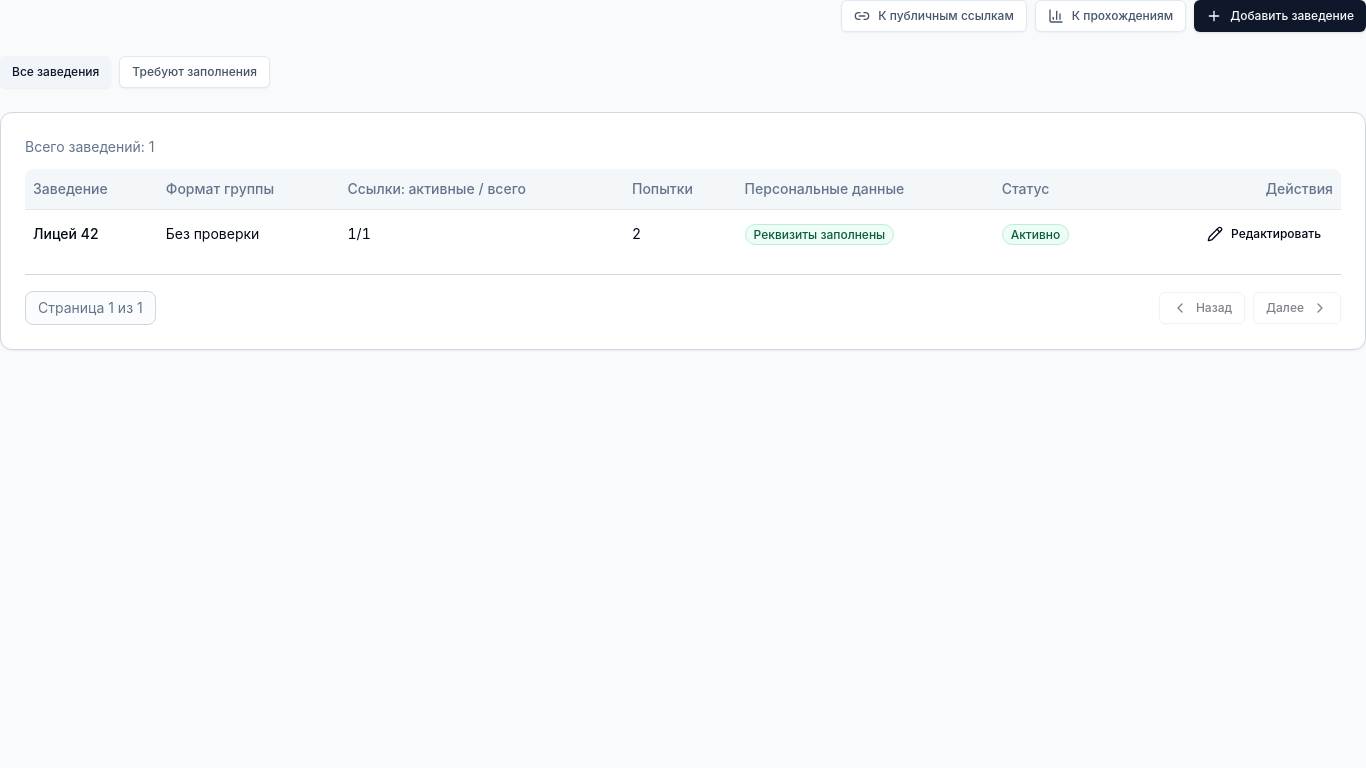
Test: AdminEducationOrganizationsWorkspace › keeps forms unmounted until create or edit is requested
The width and height of the screenshot is (1366, 768).
Expected: the field labelled "Название *" is not shown
What coordinates should you click on to do the following:
click the button "Добавить заведение"
I would click on:
 (1280, 16)
Its box is [1194,0,1365,32].
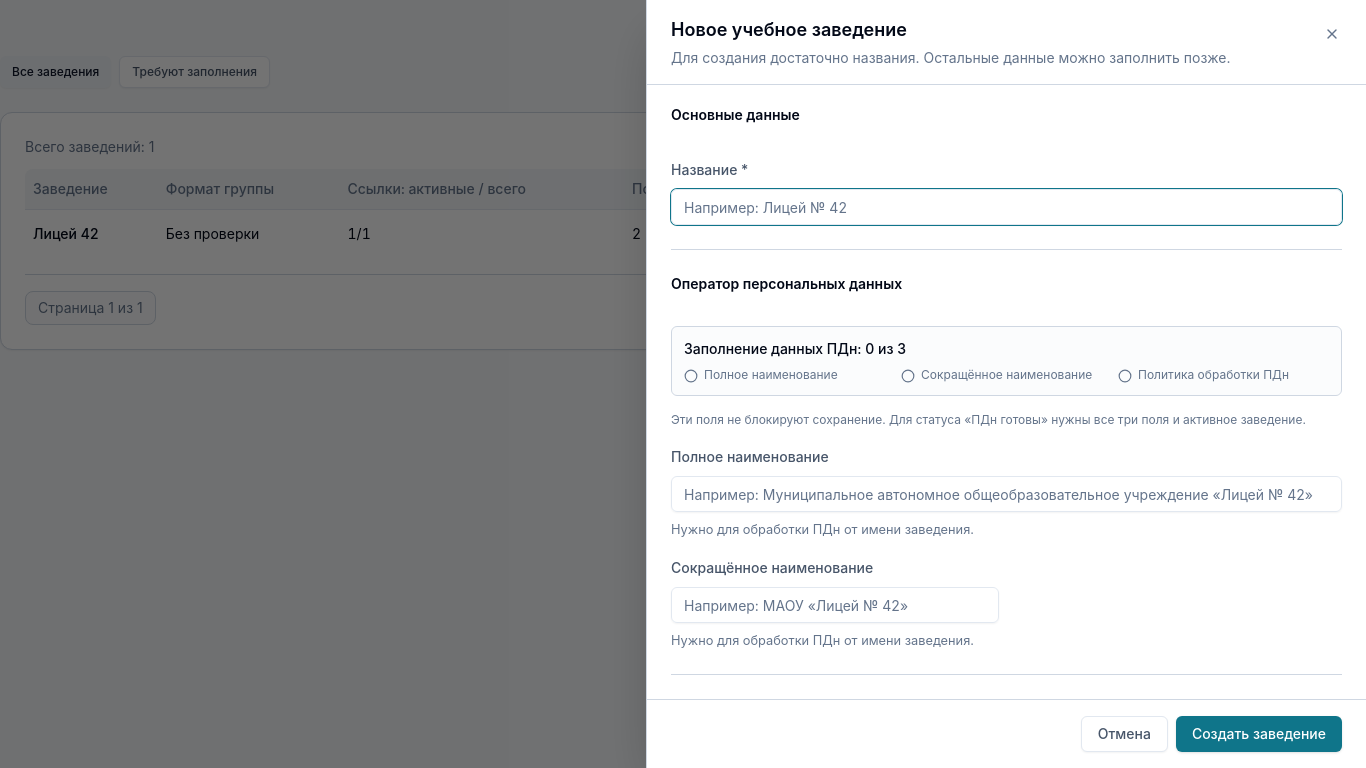
Now the dialog "Новое учебное заведение" is shown, box [646,0,1365,767]
Now the field labelled "Название *" is empty, box [671,189,1342,225]
What coordinates should you click on to do the following:
click the button "Отмена"
I would click on:
 (1124, 734)
Its box is [1081,716,1168,752].
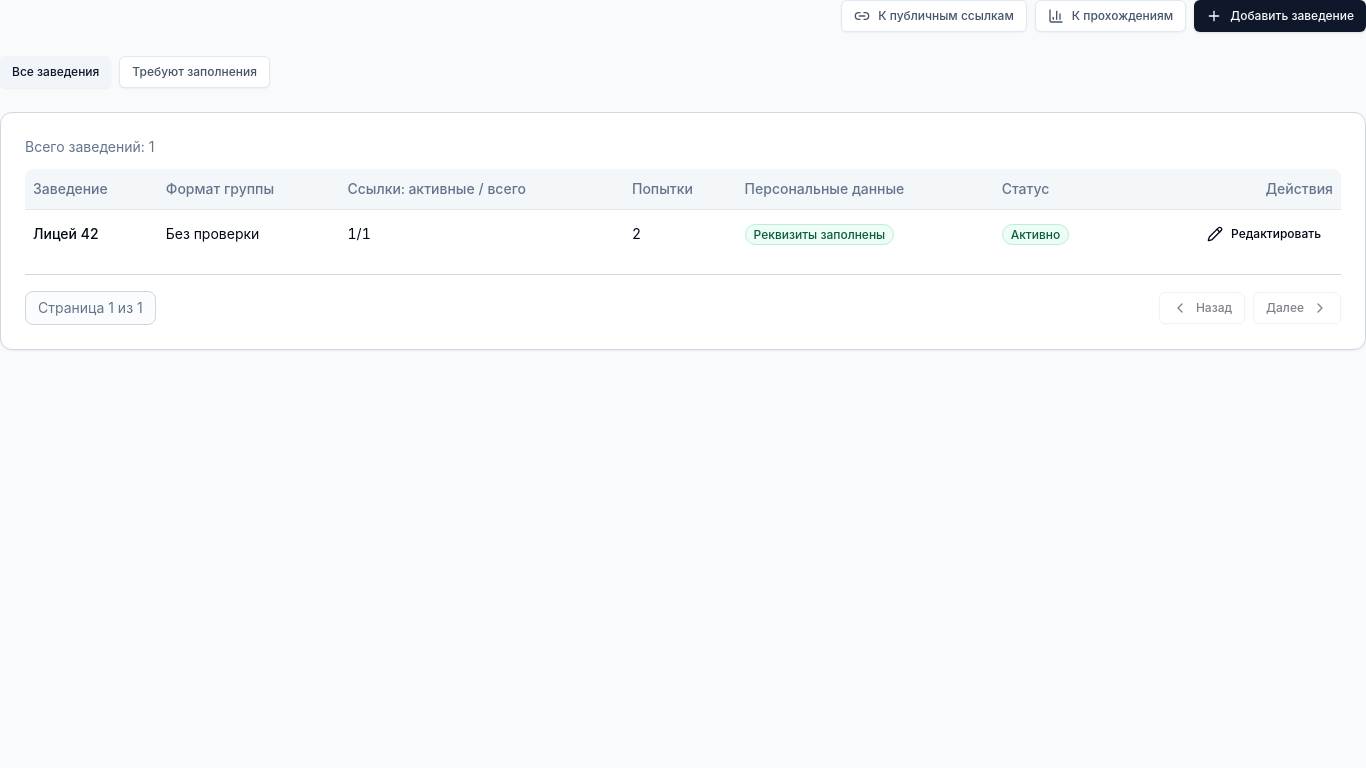
Now the label labelled "Название *" is gone
What coordinates should you click on to do the following:
click the button with aria-label "Редактировать Лицей 42"
I would click on:
 (1264, 234)
Its box is [1195,218,1333,250].
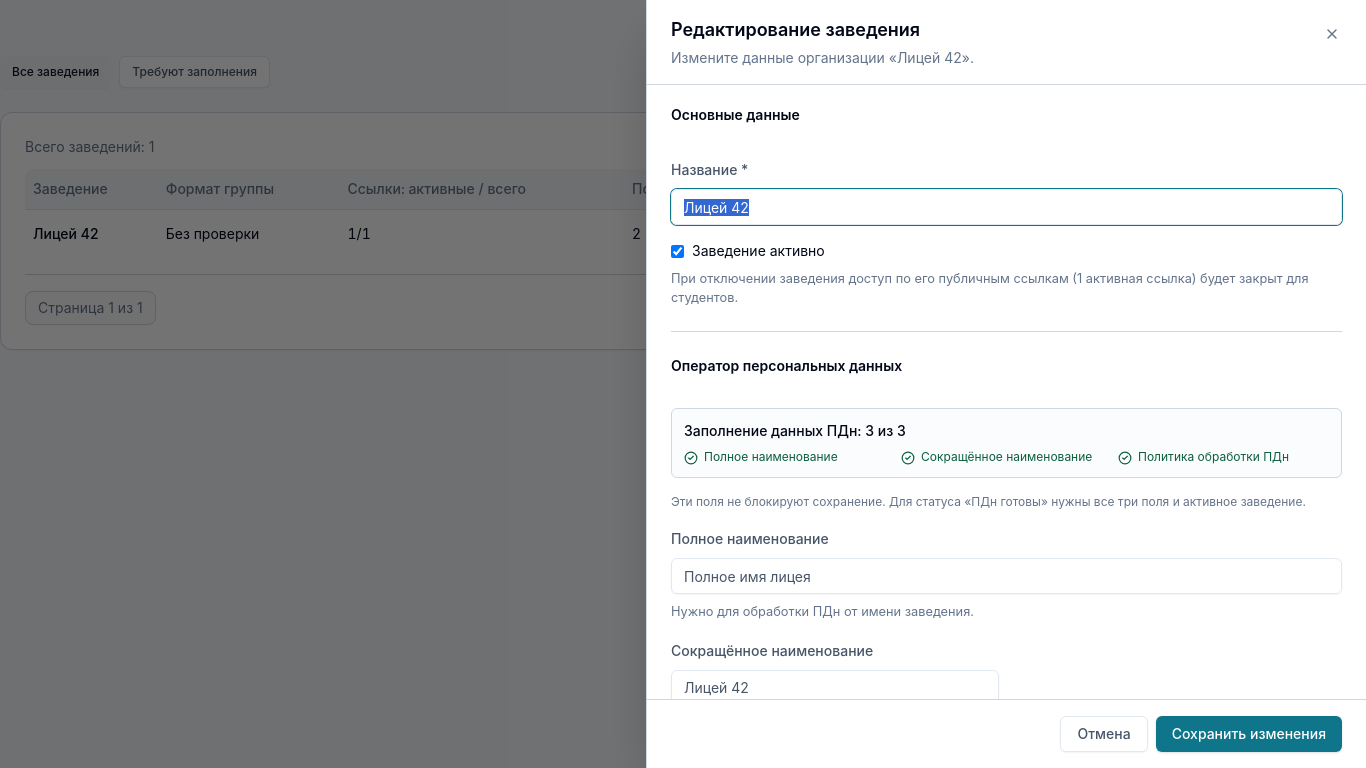
Now the dialog "Редактирование заведения" is shown, box [646,0,1365,767]
Now the field labelled "Название *" holds "Лицей 42", box [671,189,1342,225]
